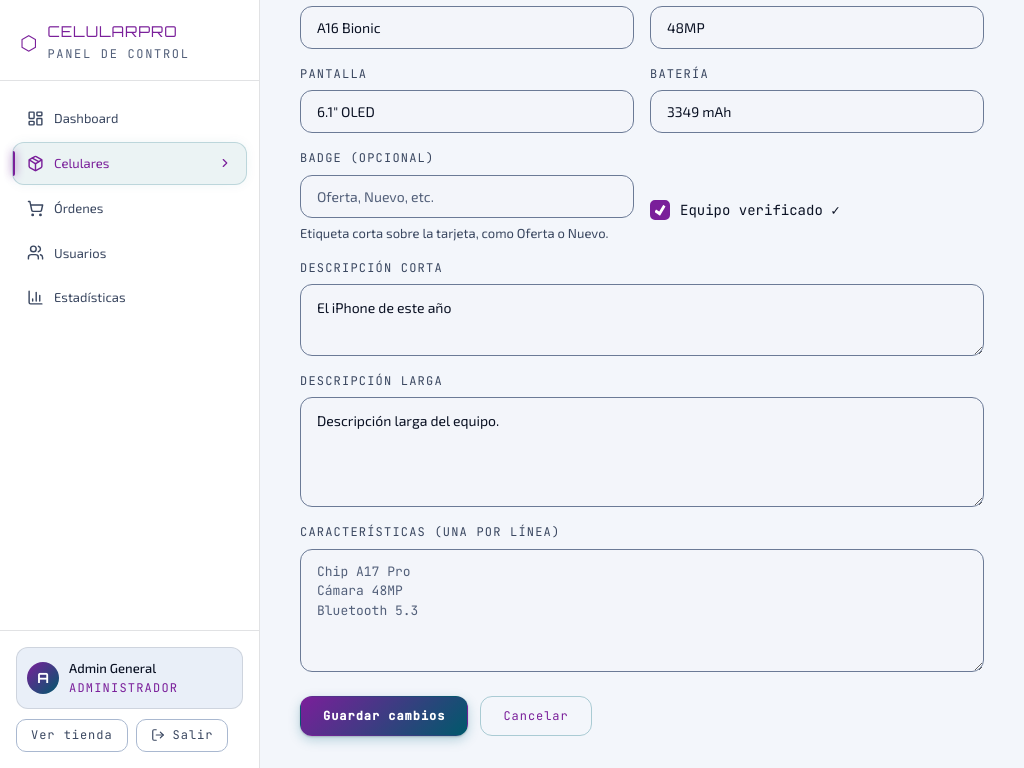
Test: Actualización de celular con relaciones › sin características en el formulario manda la lista vacía
The image size is (1024, 768).
(page scrolled)
Click the button "Guardar cambios".
click(384, 716)  # box [300,696,468,736]
(page scrolled)
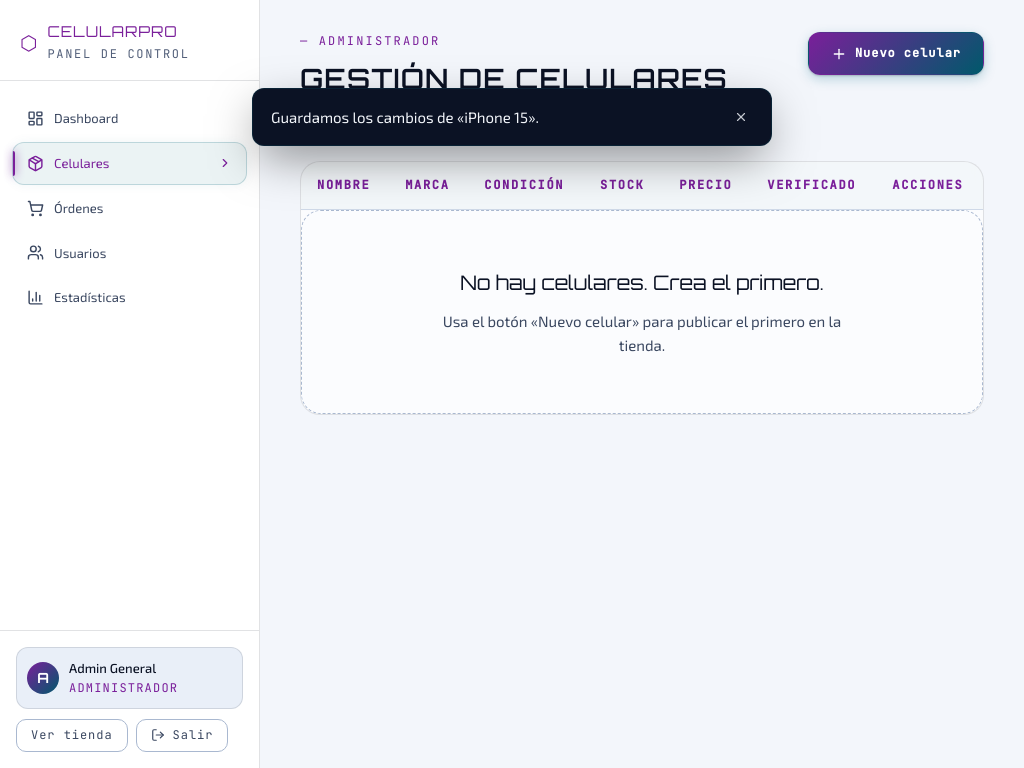
Result: the heading "Gestión de celulares" is shown at [300,57,728,102]
